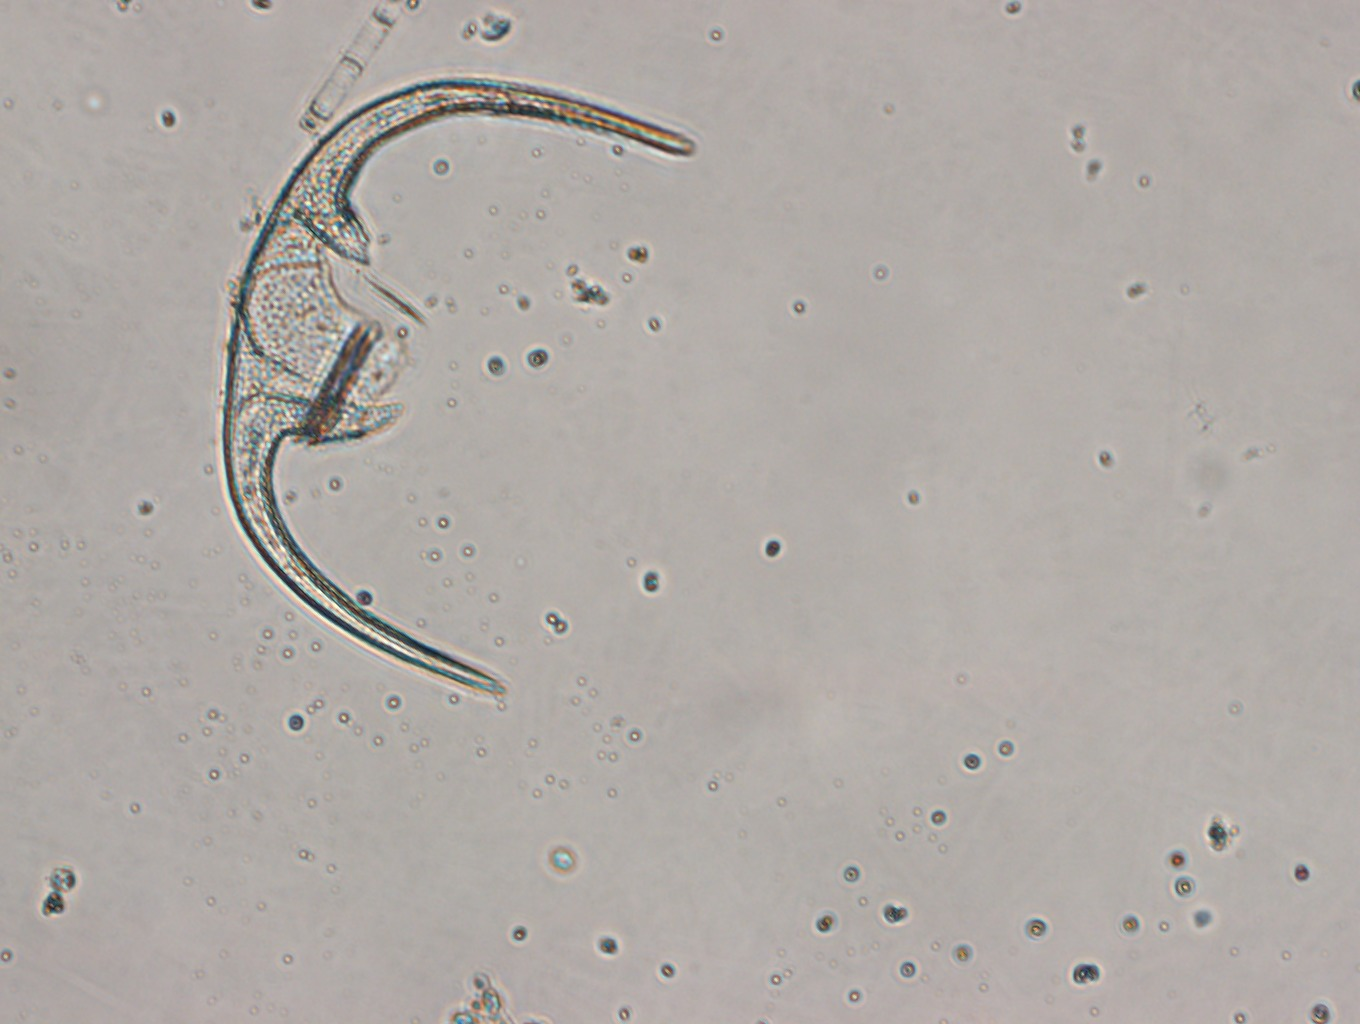ceratium tripos: (221, 77, 695, 689)
